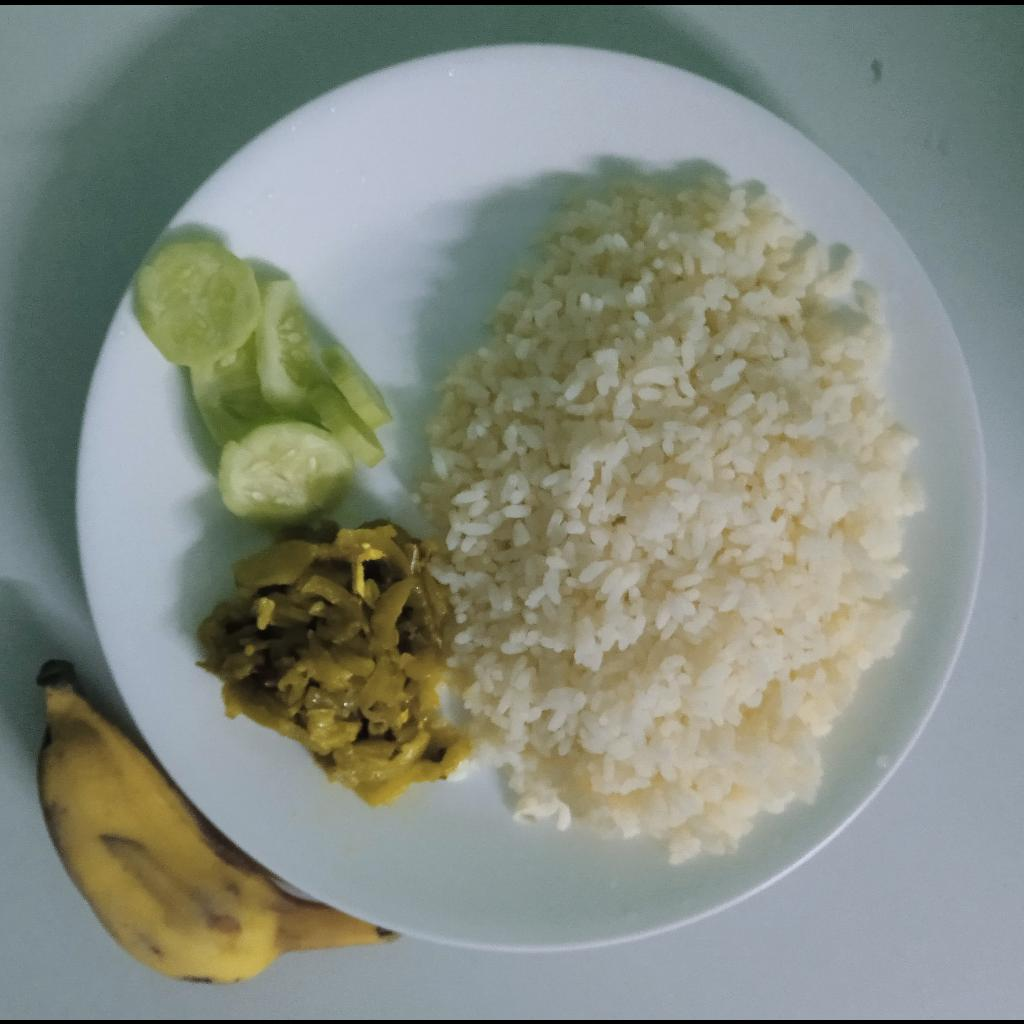banana: (37, 659, 400, 982)
cucumber: (132, 240, 394, 523)
rice: (422, 176, 928, 864)
vegetable: (194, 516, 468, 806)
